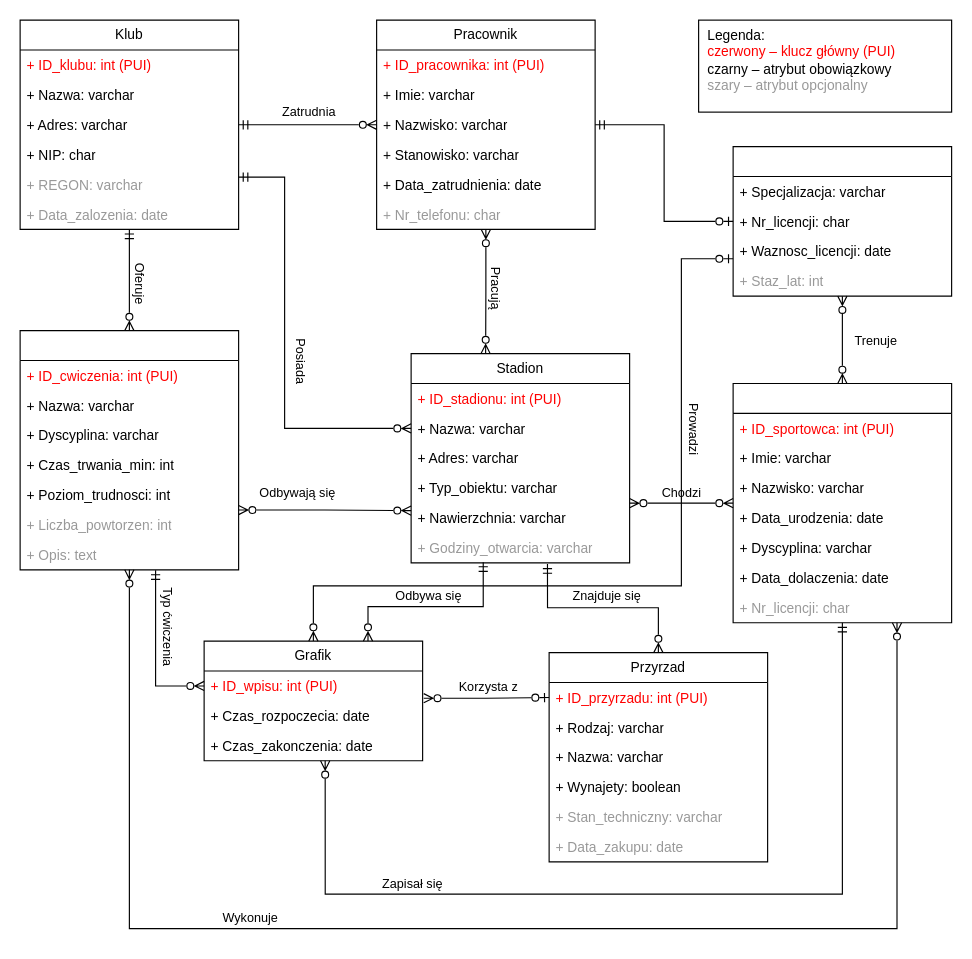
This 972x959 diagram has some shape labels left out. The box of each missing label's shape, as (x1, y1, x2, y2) in pixels:
Cwiczenie: (19, 329, 239, 570)
Sportowiec: (732, 382, 952, 623)
Trener: (732, 145, 952, 296)
